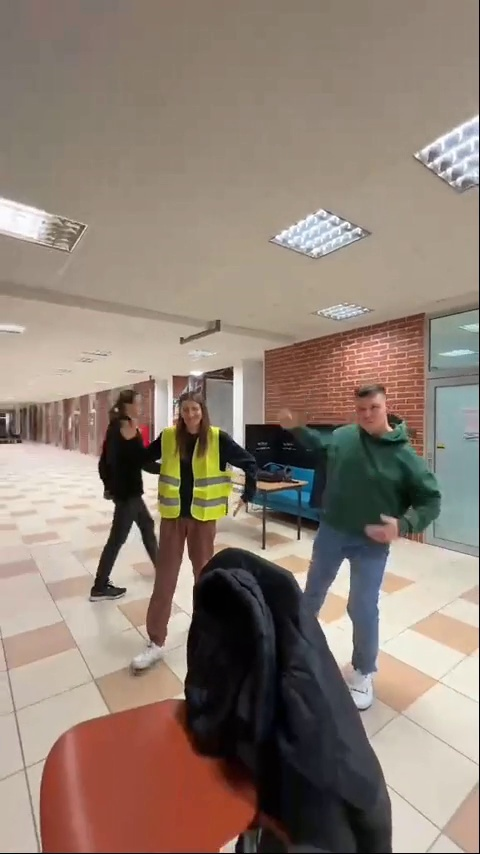no vest: (297, 376, 434, 702), (89, 382, 156, 586)
vest: (146, 395, 240, 664)
